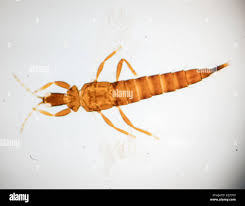Phlaeothripidae: (14, 50, 229, 138)
